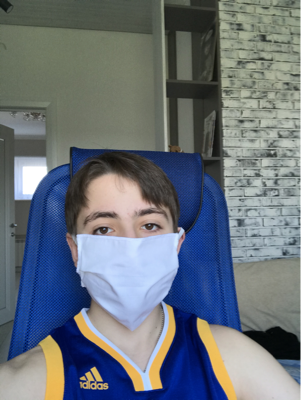with_mask: (74, 205, 180, 330)
